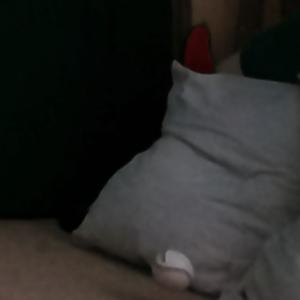ball: (150, 248, 196, 296)
